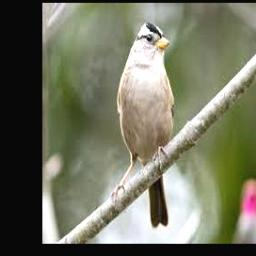Sparrow: (112, 23, 175, 227)
